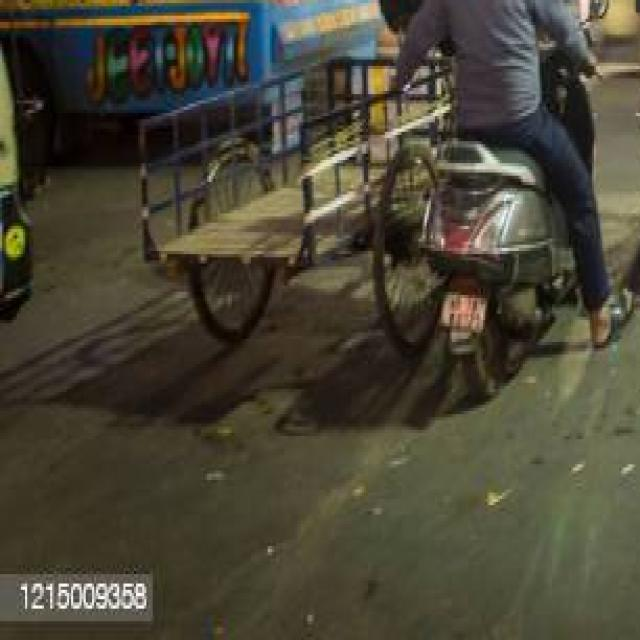bike: (422, 107, 610, 386), (638, 0, 640, 289)
